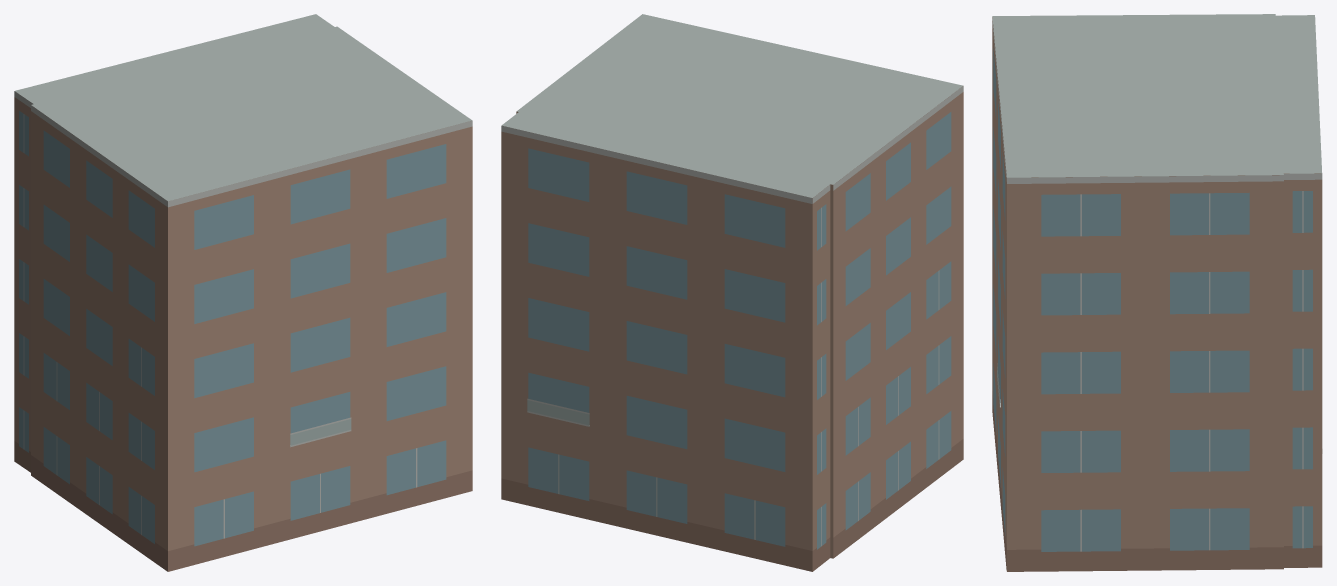
Rendered from survey-upis-32917390.glb.
3 renders of one model, left to right at view 1: azimuth 30°, elevation 25°; view 2: azimuth 150°, elevation 25°; view 3: azimuth 270°, elevation 25°, orthographic. The views are drawn at different scales.
Parts seen in each view (by area): view 1: survey-upis-32917390.tmp; view 2: survey-upis-32917390.tmp; view 3: survey-upis-32917390.tmp.
Boxes of the visible parts, x1,y1,x2,y2 form: survey-upis-32917390.tmp: (14, 14, 472, 571); survey-upis-32917390.tmp: (501, 14, 963, 571); survey-upis-32917390.tmp: (992, 14, 1322, 571).
Bounding box in the file's own units: 13.46 × 15.1 × 11.47.
